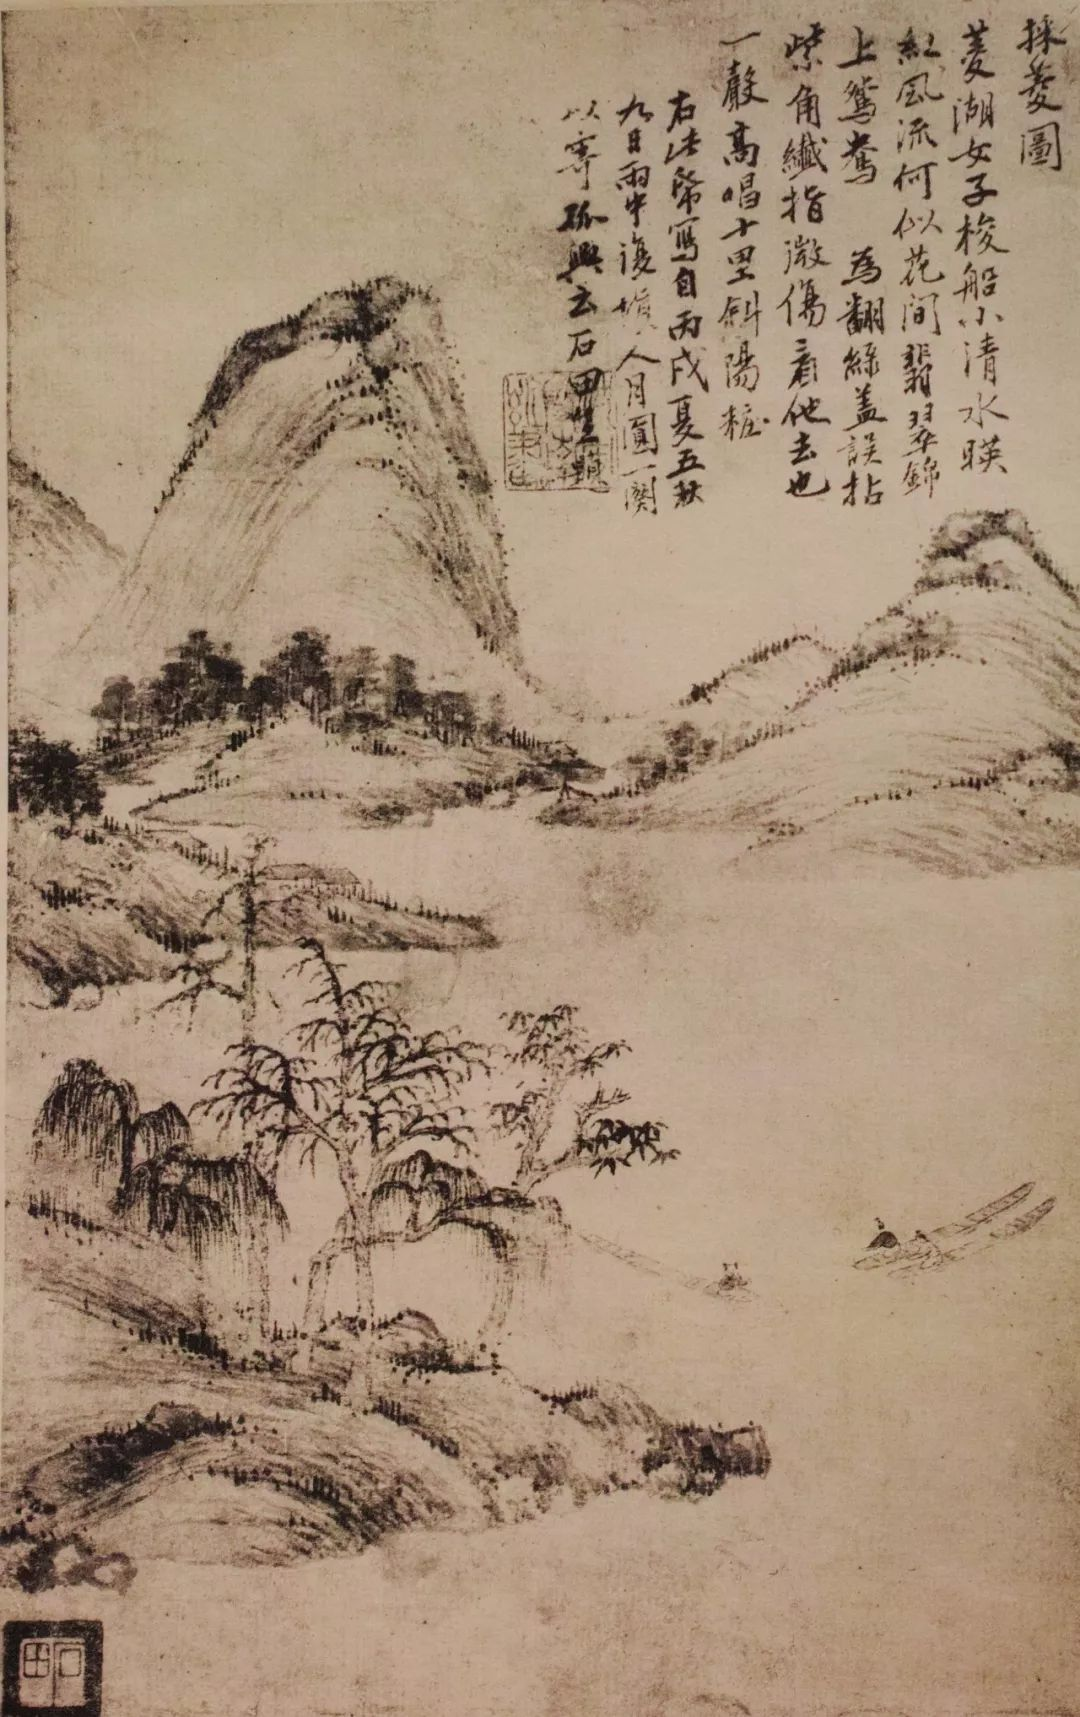boat: (888, 1180, 1046, 1277), (594, 1242, 646, 1268), (718, 1272, 753, 1301), (658, 1273, 702, 1288)
hill: (15, 835, 484, 961), (151, 740, 526, 817)
mountain: (162, 297, 493, 640), (919, 524, 1080, 857), (566, 693, 886, 850), (4, 475, 156, 677), (760, 633, 931, 693)
tree: (134, 646, 520, 739), (317, 975, 386, 1395), (386, 1036, 473, 1237), (504, 1044, 552, 1389), (567, 1048, 657, 1160), (17, 739, 102, 820), (229, 951, 263, 1048)
willow: (80, 1090, 275, 1231), (192, 1237, 226, 1335)
